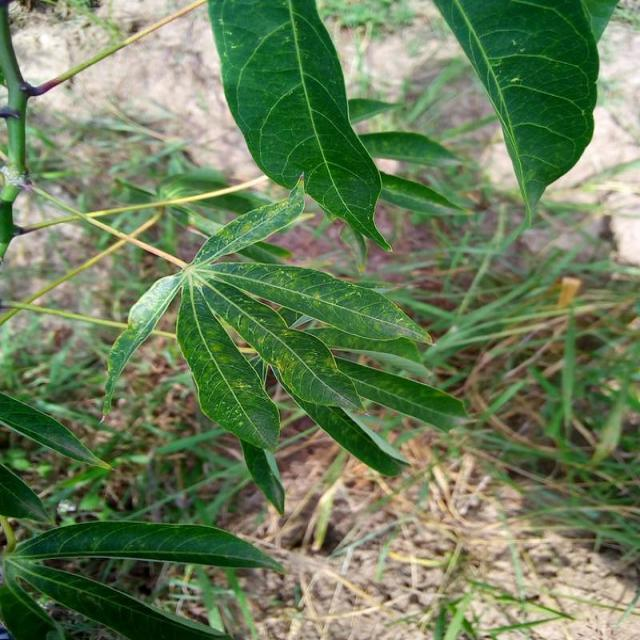cassava leaf: (99, 174, 469, 509), (206, 0, 392, 253), (432, 0, 618, 227)
